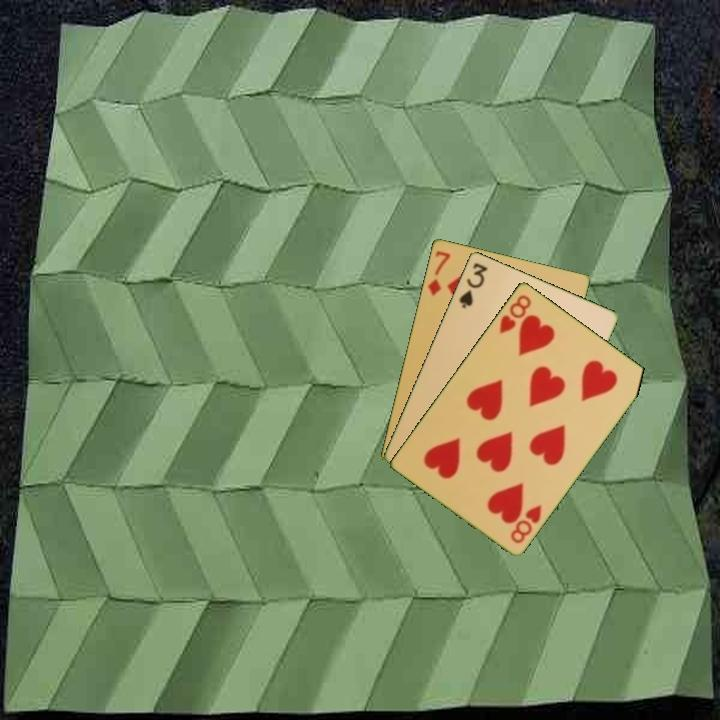3s: (455, 259, 490, 311)
7d: (424, 247, 453, 298)
8h: (495, 291, 534, 336), (507, 501, 545, 546)
